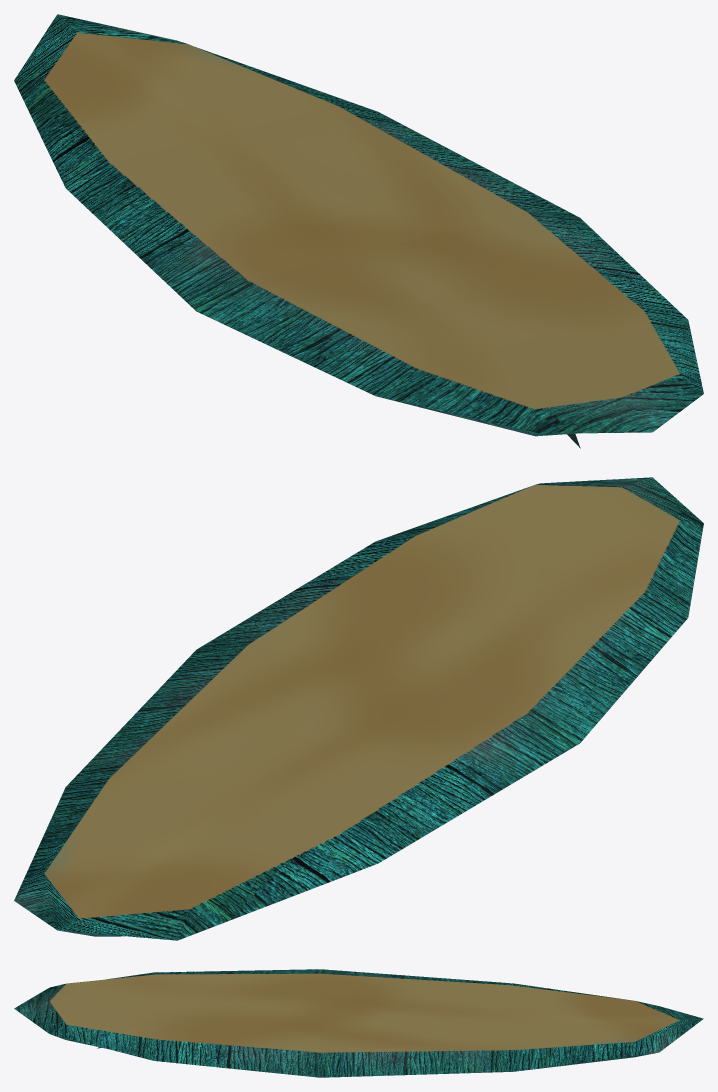
The model's file is board.glb.
3 renders of one model, top to bottom at view 1: azimuth 30°, elevation 25°; view 2: azimuth 150°, elevation 25°; view 3: azimuth 270°, elevation 25°, orthographic. The views are drawn at different scales.
Visible parts, largest first — view 1: board; view 2: board; view 3: board.
Part boxes in pixels (<box>): board: <box>14,14,703,448</box>; board: <box>14,477,703,940</box>; board: <box>14,969,703,1077</box>.
Bounding box in the file's own units: 3.32 × 0.6742 × 8.92.
Materials: 1 (1 with a texture image).
